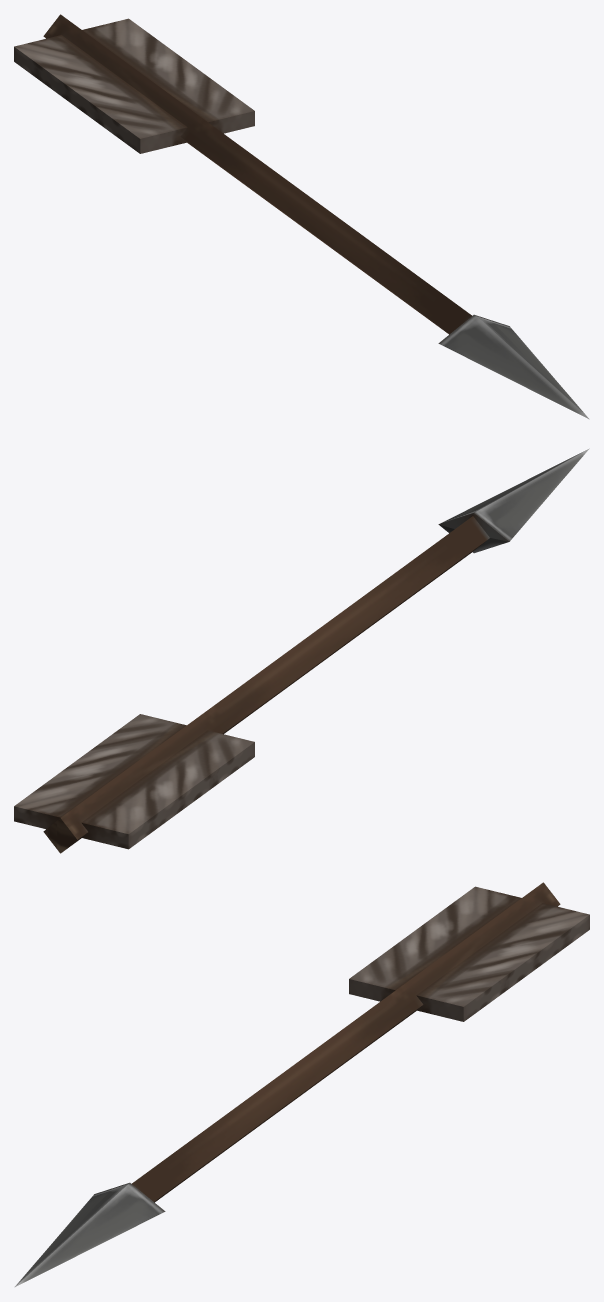
Rendered from ArrowMG.fbx.
3 views of the same model, one above another, from view 1: azimuth 30°, elevation 25°; view 2: azimuth 150°, elevation 25°; view 3: azimuth 330°, elevation 25° (orthographic).
Visible parts, largest first — view 1: ArrowMG; view 2: ArrowMG; view 3: ArrowMG.
Part boxes in pixels (left/top/right/bottom): ArrowMG: left=14, top=14, right=589, bottom=419; ArrowMG: left=14, top=448, right=589, bottom=853; ArrowMG: left=14, top=882, right=589, bottom=1287.
Bounding box in the file's own units: 0.5107 × 0.172 × 4.08.
